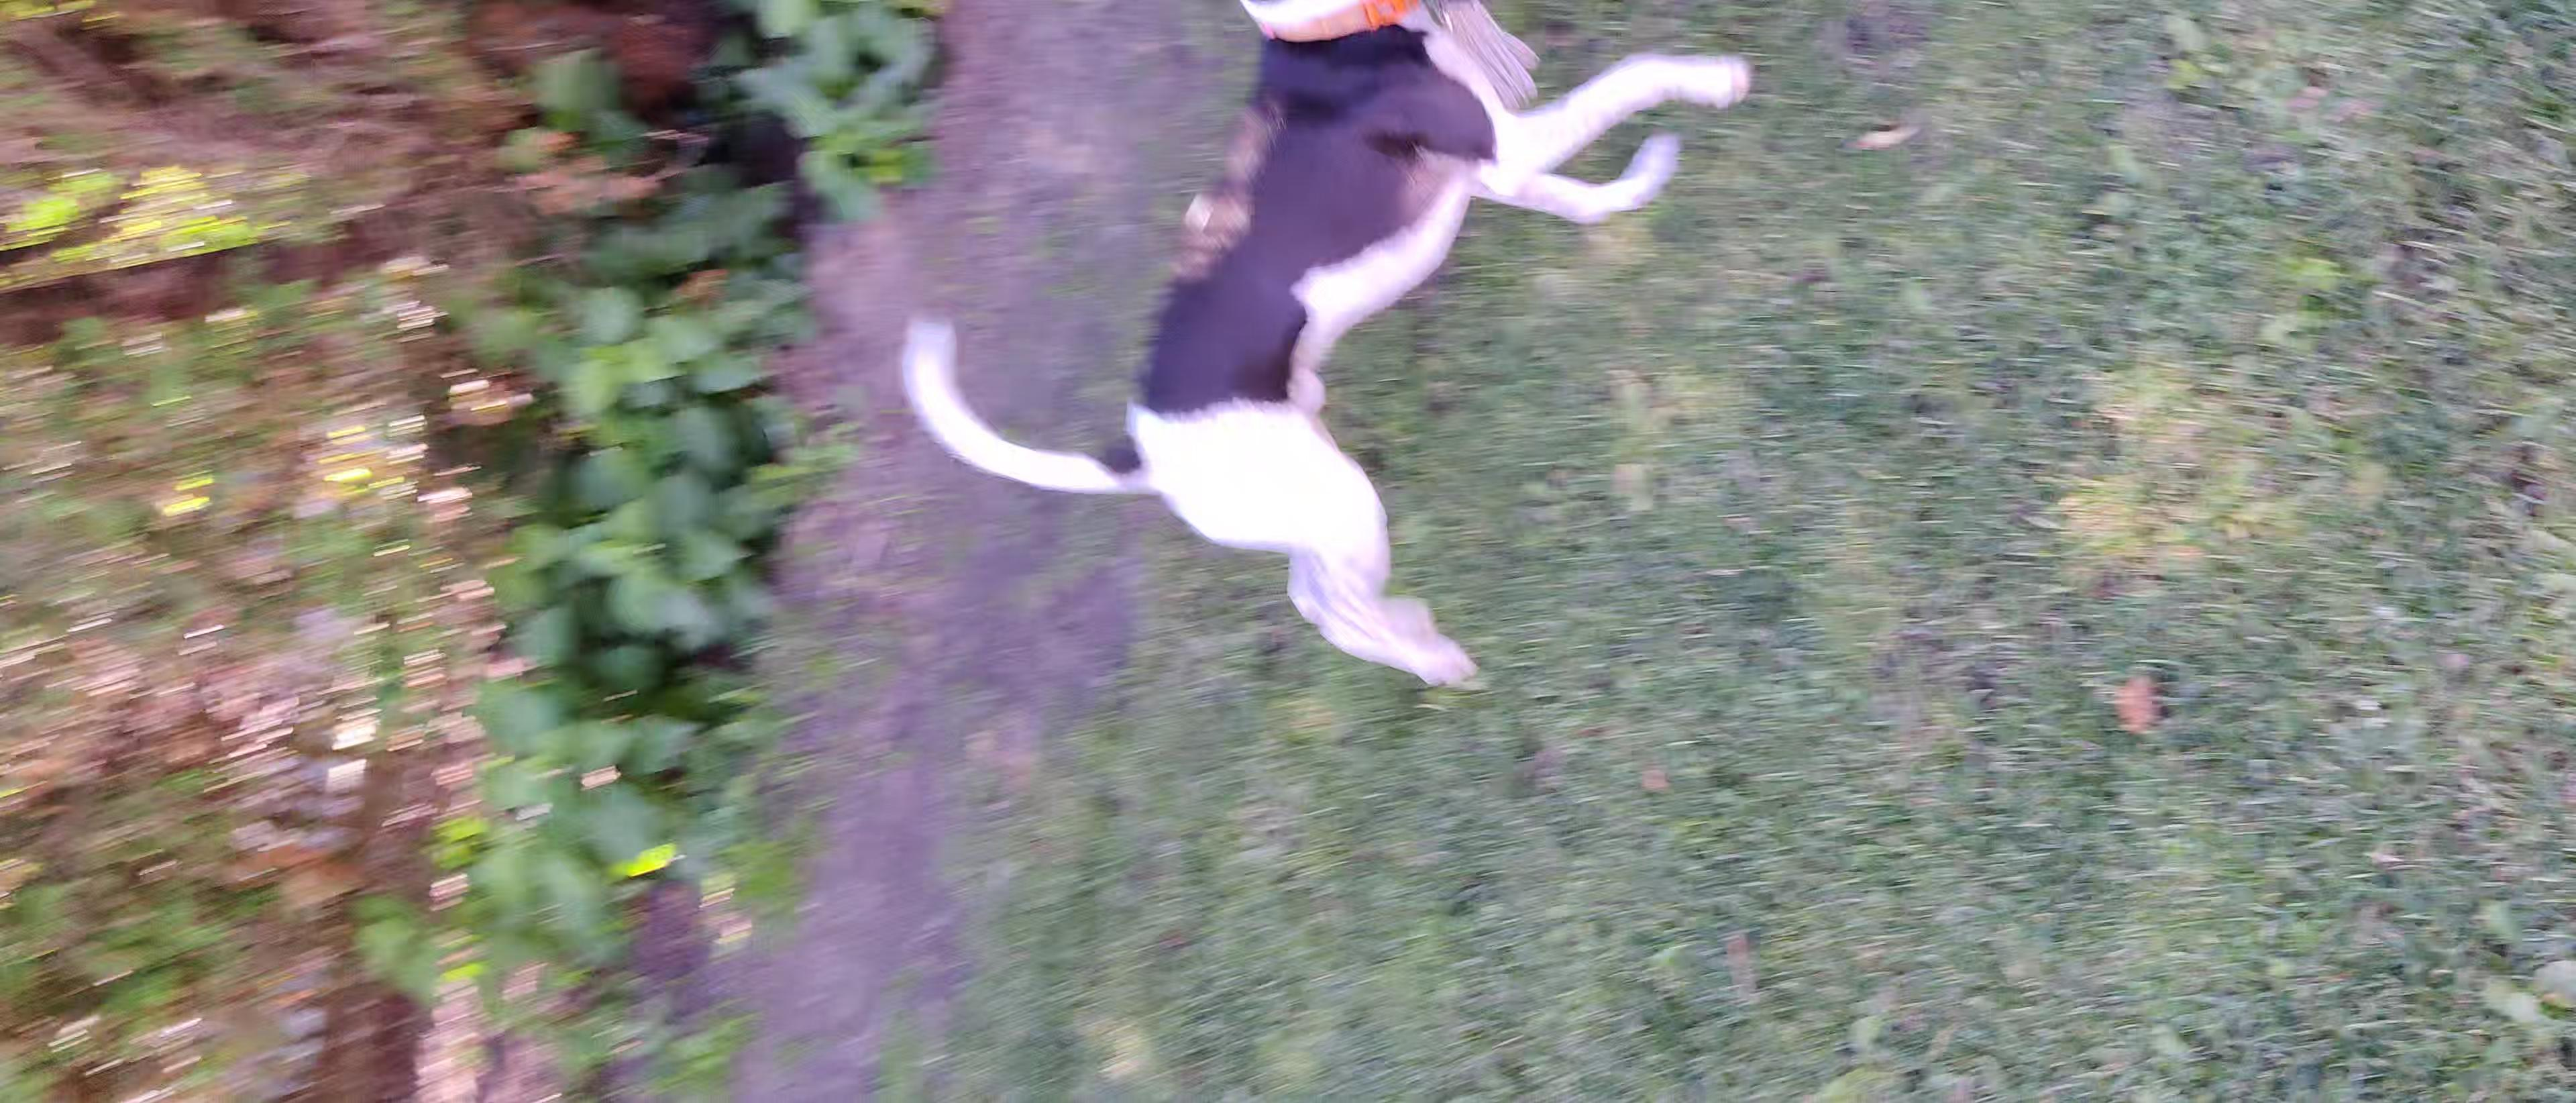Dog: (889, 0, 1756, 697)
